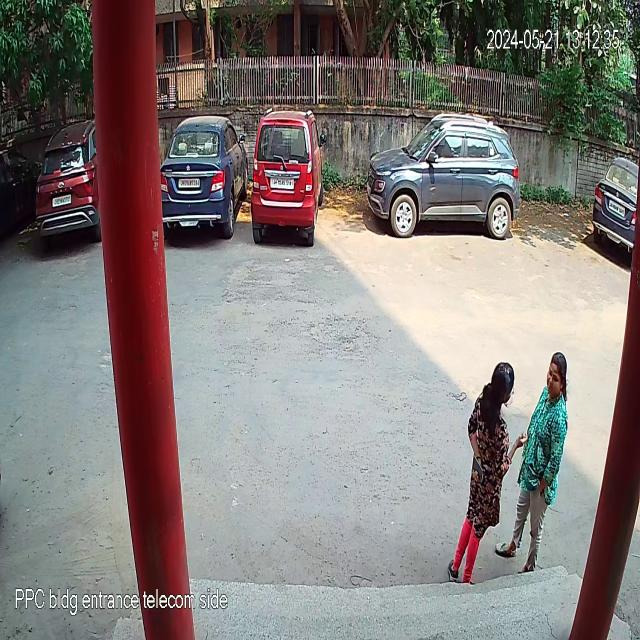no-safety-helmet: (544, 348, 570, 402), (489, 355, 517, 405)
no-safety-shoes: (495, 539, 519, 559), (518, 556, 541, 572), (444, 558, 458, 582), (462, 577, 478, 585)
person: (496, 350, 569, 573)
